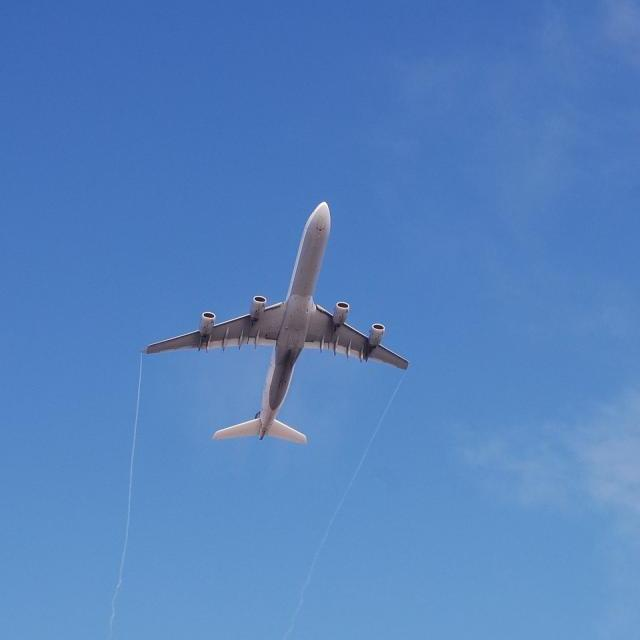airplane: (142, 197, 412, 447)
